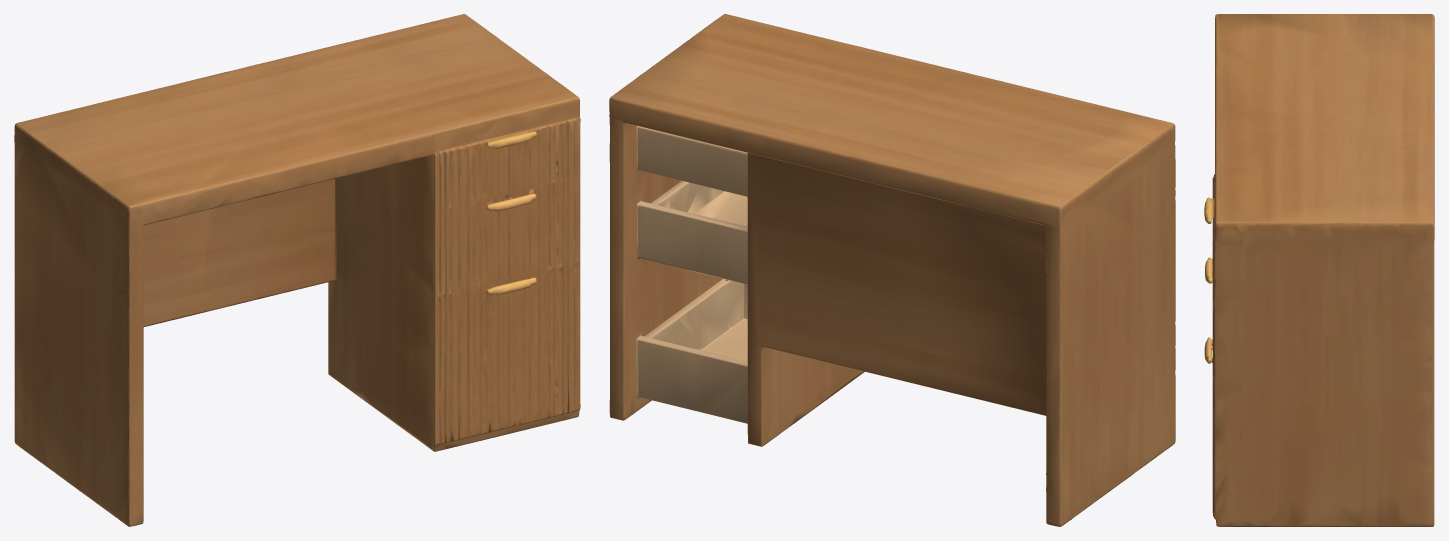
The model's file is desk.glb.
3 views of the same model, side by side, from view 1: azimuth 30°, elevation 25°; view 2: azimuth 150°, elevation 25°; view 3: azimuth 270°, elevation 25° (orthographic). The views are drawn at different scales.
Parts seen in each view (by area): view 1: desk-normalized; view 2: desk-normalized; view 3: desk-normalized.
Boxes of the visible parts, box(x1,y1,x2,y2) form: desk-normalized: box(14, 14, 580, 526); desk-normalized: box(609, 14, 1175, 526); desk-normalized: box(1204, 14, 1434, 526).
Bounding box in the file's own units: 1.12 × 0.7601 × 0.5201.
Materials: 1 (1 with a texture image).
